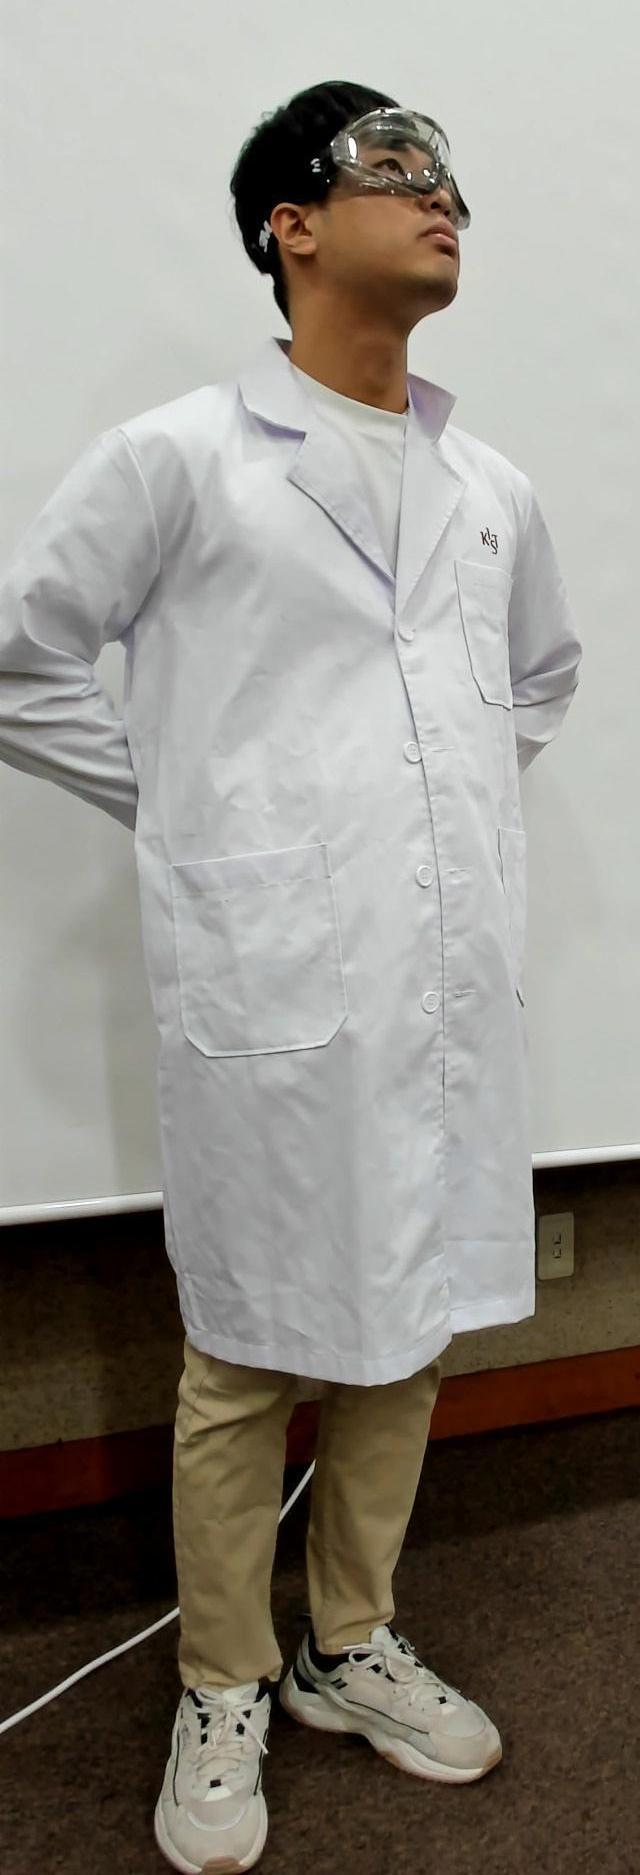lab_coat: (111, 367, 545, 1391)
